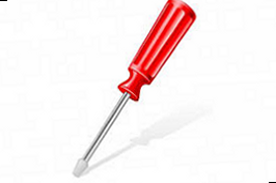screwdriver: (74, 1, 200, 176)
